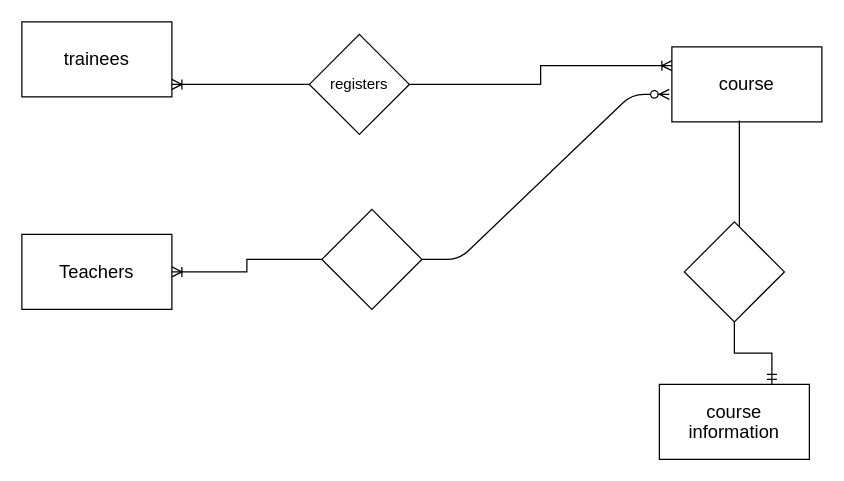
Image size: 844x481. Some labels were removed from this diagram. The shapes that lost their labels are listed below. From the top down, each one's centre as x and y in pixels, then its label:
At (371,258): "teaches".
At (733,271): "based on".
